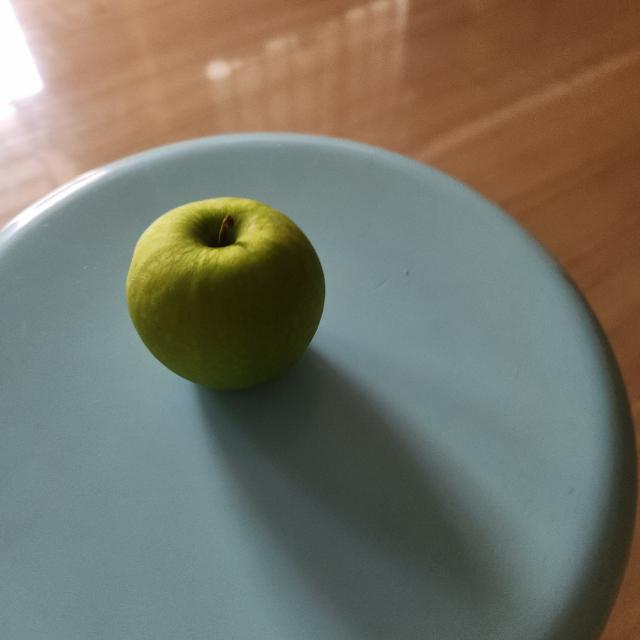apple: (124, 195, 327, 398)
